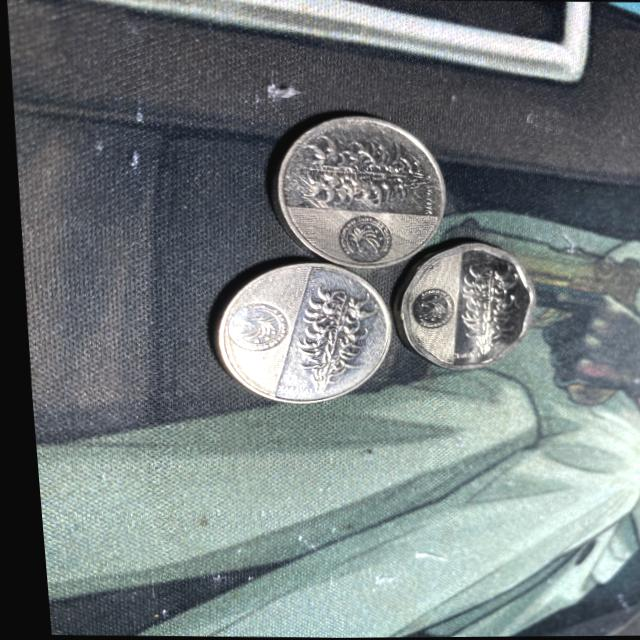5_New_Back: (283, 290, 372, 393), (299, 140, 424, 206), (445, 261, 521, 350)
